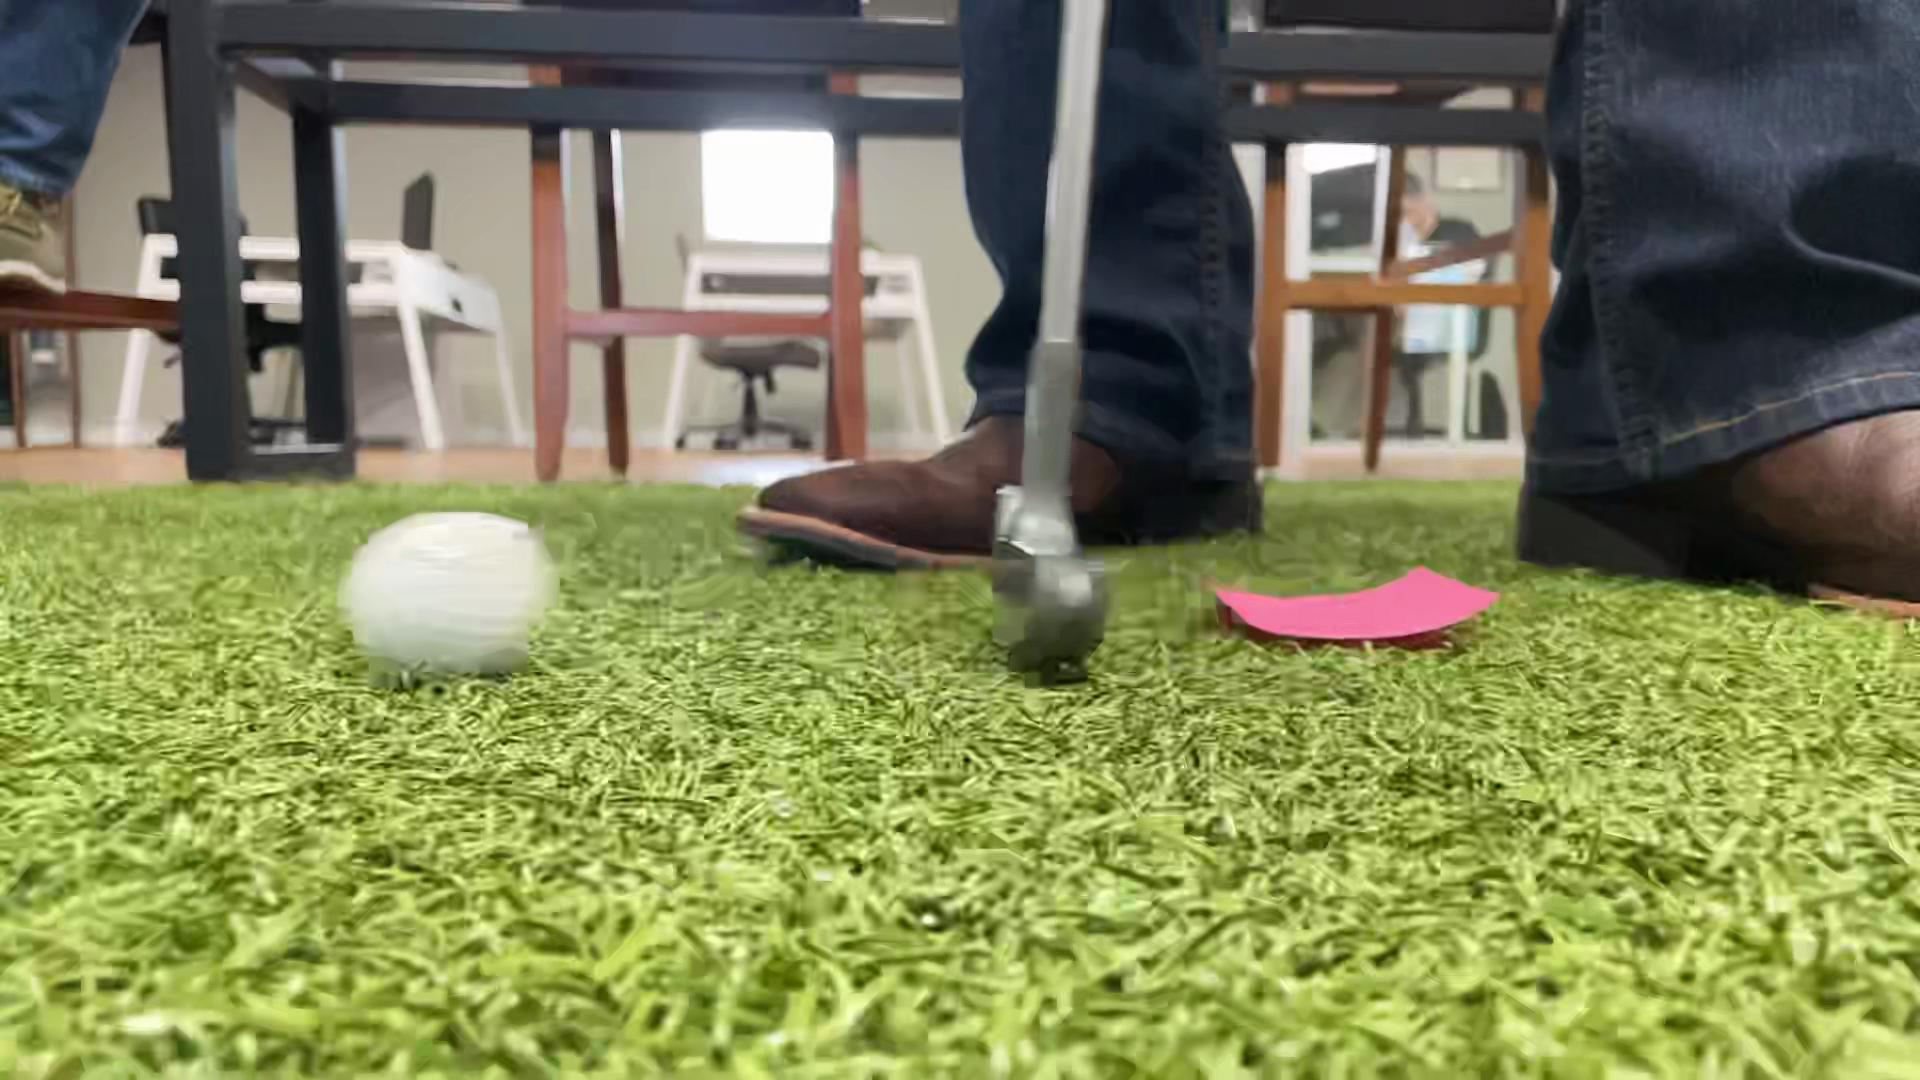golfball: (344, 513, 560, 669)
